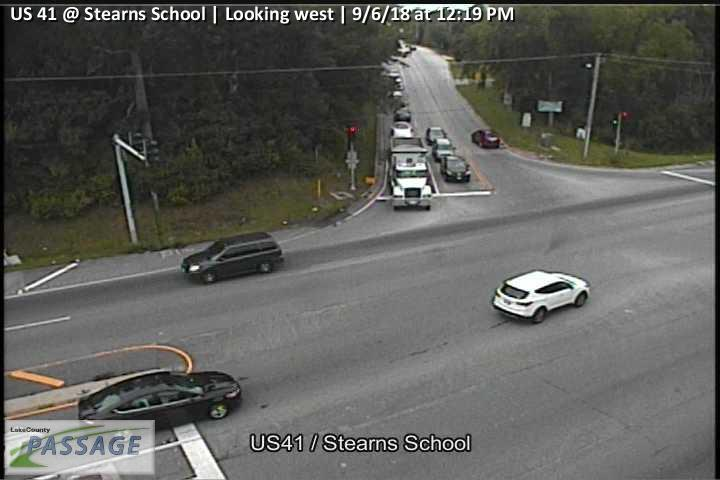SUV: (180, 231, 285, 286), (490, 267, 592, 323), (439, 155, 472, 183), (427, 126, 447, 147), (433, 139, 453, 159), (391, 121, 414, 138)
Sedan: (76, 370, 243, 440), (470, 127, 501, 149)
Truck: (390, 137, 433, 212)
